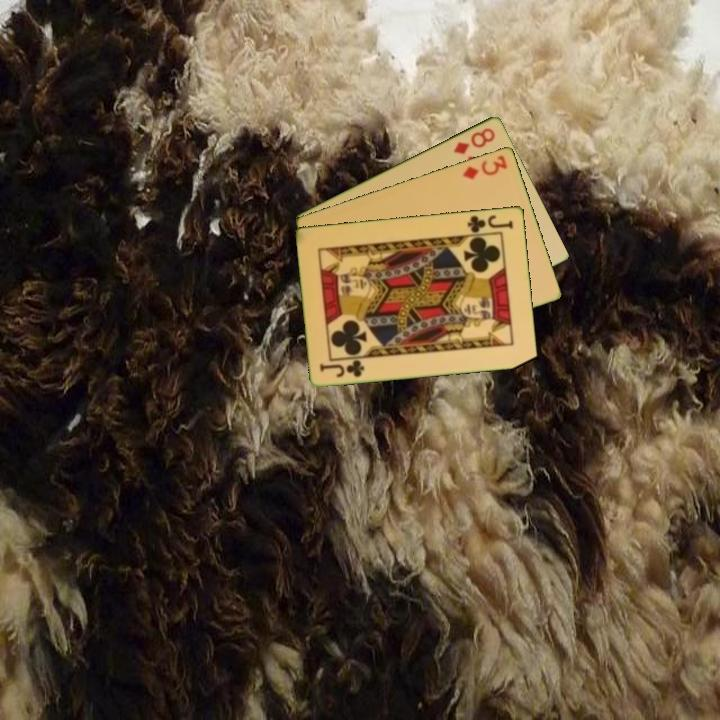3d: (459, 151, 510, 182)
8d: (450, 124, 498, 157)
Jc: (464, 211, 516, 235), (316, 356, 367, 380)
